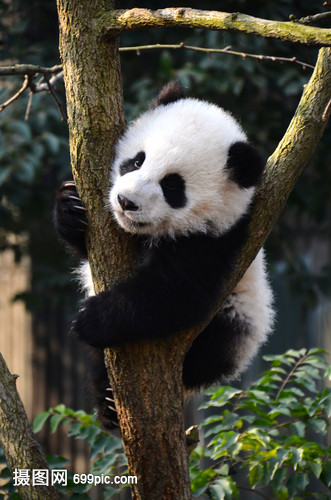panda: (52, 86, 288, 391)
